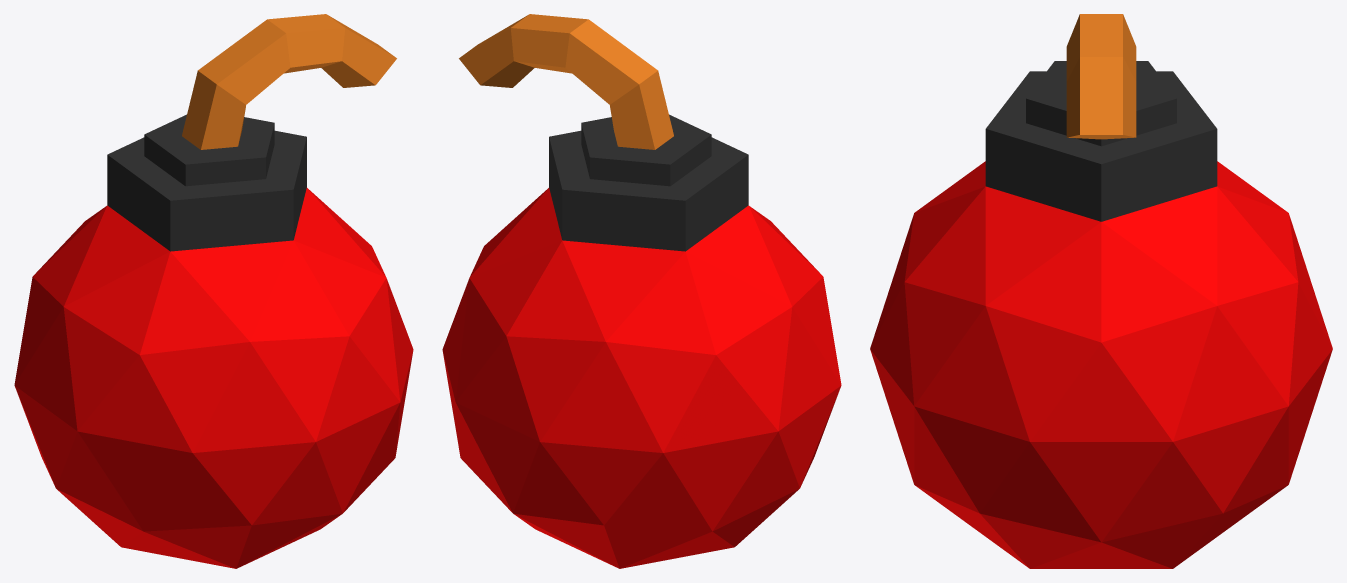
Rendered from LowPolyBomb.FBX.
3 renders of one model, left to right at view 1: azimuth 30°, elevation 25°; view 2: azimuth 150°, elevation 25°; view 3: azimuth 270°, elevation 25°, orthographic. The views are drawn at different scales.
Visible parts, largest first — view 1: GeoSphere001; view 2: GeoSphere001; view 3: GeoSphere001.
Part boxes in pixels (left/top/right/bottom): GeoSphere001: left=14, top=14, right=413, bottom=568; GeoSphere001: left=442, top=14, right=841, bottom=568; GeoSphere001: left=870, top=14, right=1332, bottom=568.
Bounding box in the file's own units: 135 × 193 × 140.
